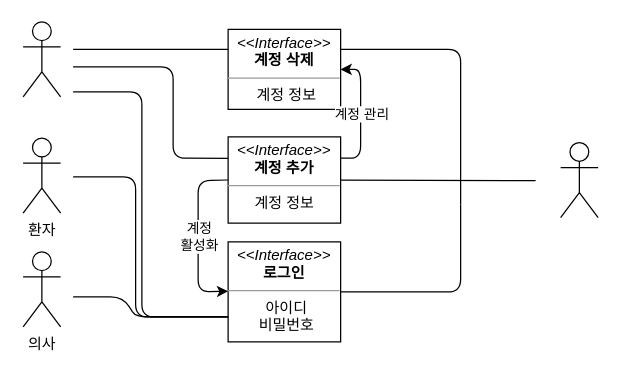
The diagram is 620 pixels wide and 375 high, and some of its shapes have lost their labels. Each missing label, with the centre of its shape:
"계정" goes at pixel 578 179.
"관리자" goes at pixel 41 59.
